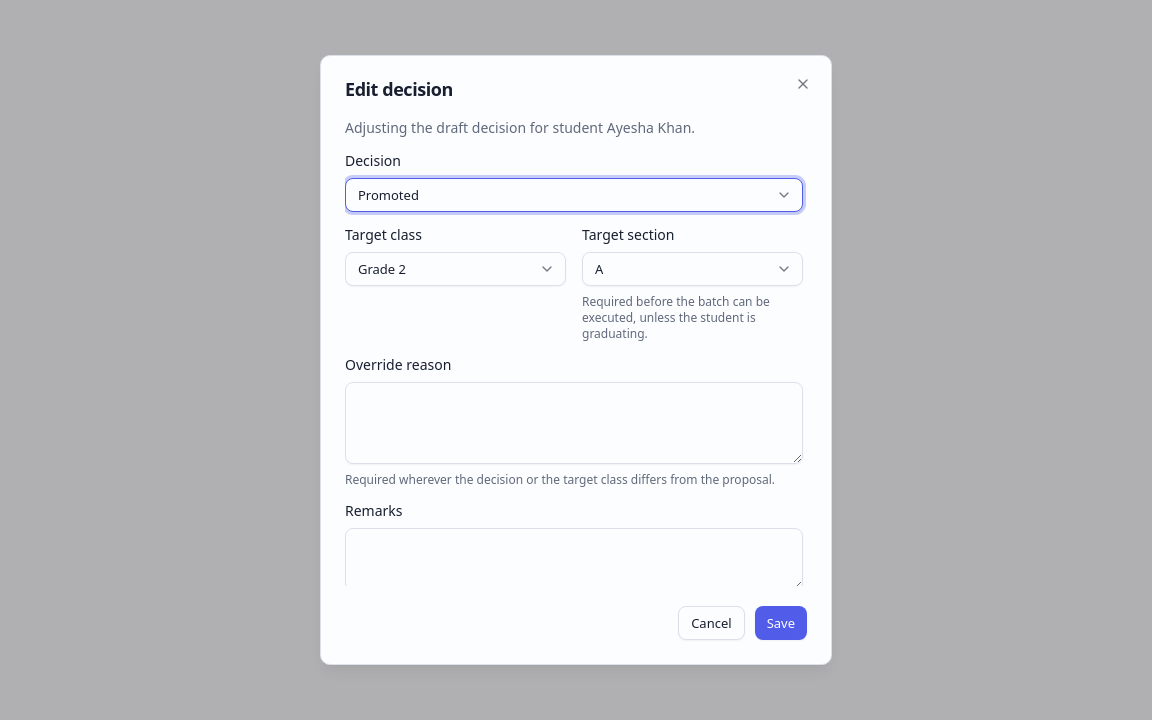
Test case: PromotionDecisionDialog › what it opens with › still shows a class that is no longer offered, when the row points at it
The image size is (1152, 720).
Expected: the dialog "Edit decision" is shown, [320,55,832,665]
Expected: the dropdown named "Target class" reads "Grade 2", [345,252,566,286]
Click the dropdown named "Decision" at (388, 195), box [345,178,803,212]
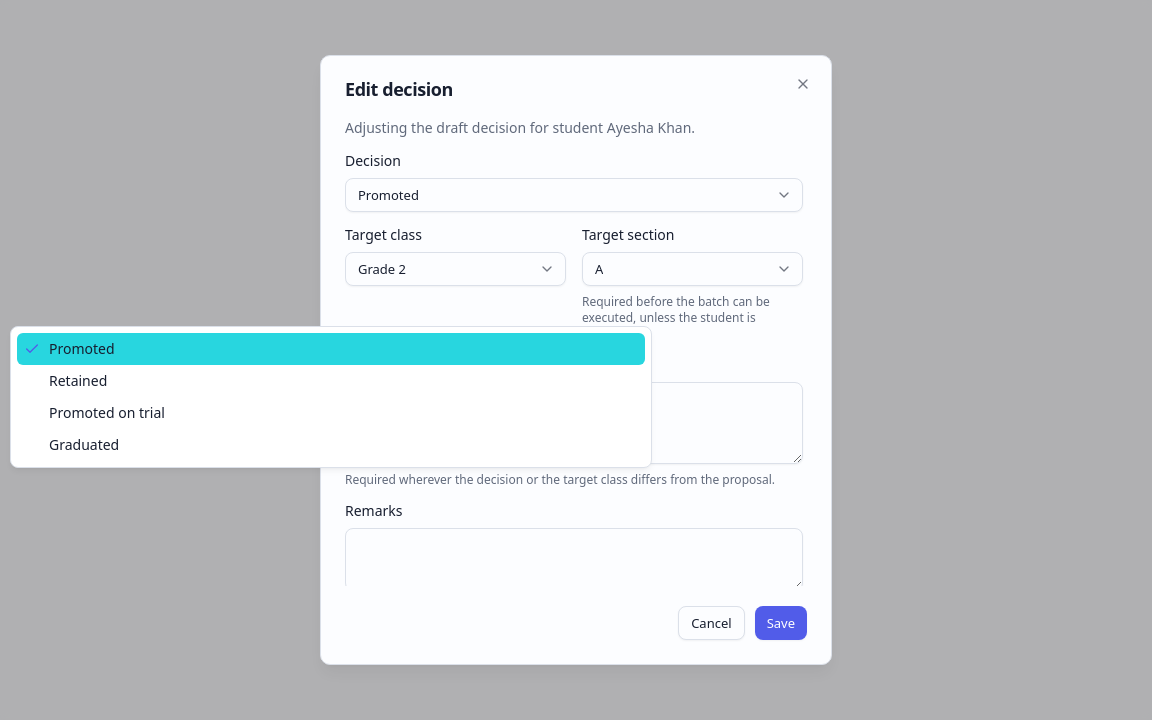
Click the option "Retained" at (78, 380), box [49,371,107,390]
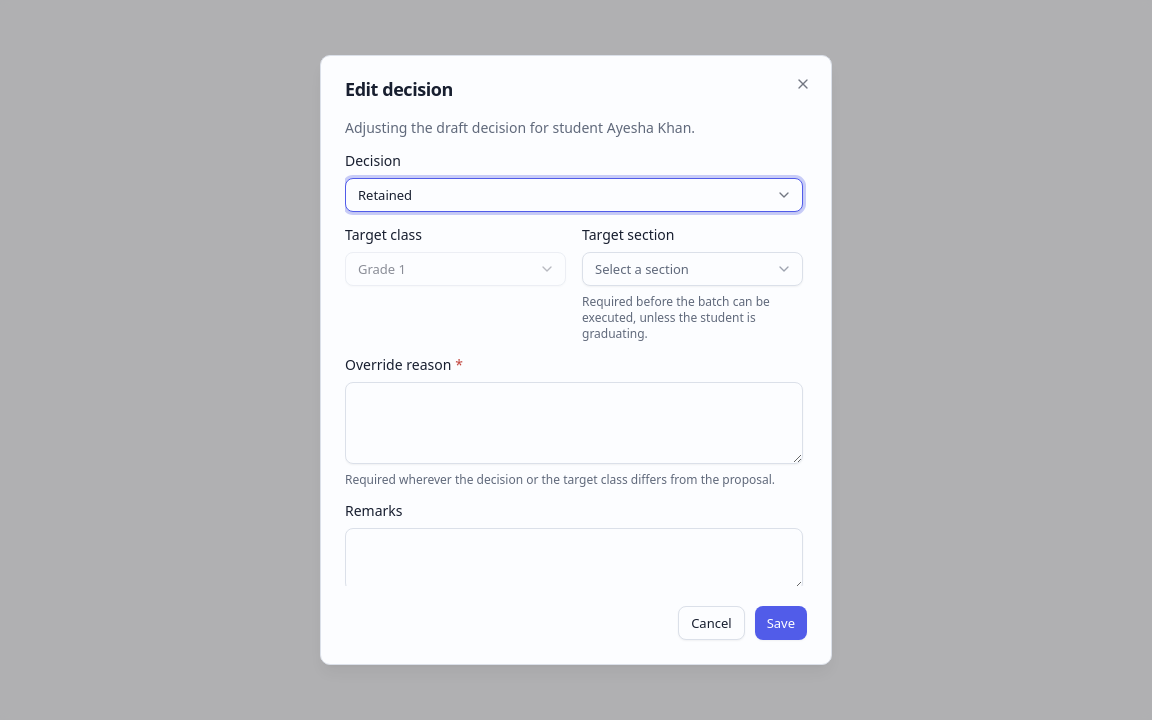
Expected: the dropdown named "Target class" reads "Grade 1", [345,252,566,286]
